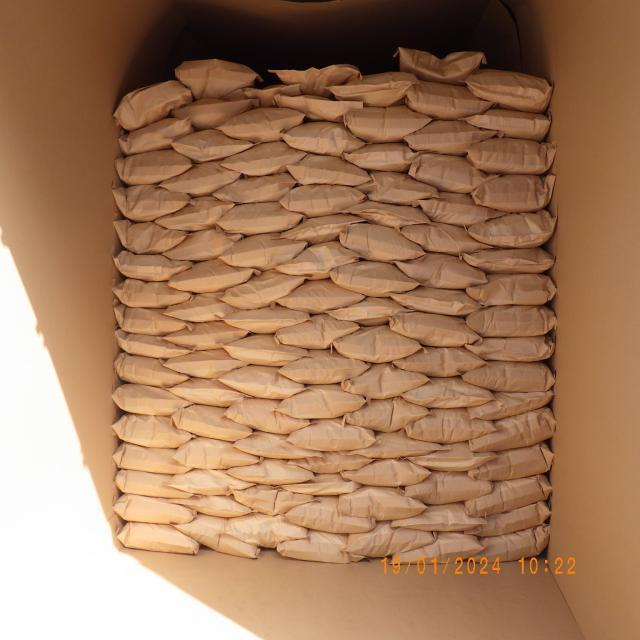gunny_bag: (176, 516, 260, 562), (408, 148, 488, 194), (468, 69, 554, 111), (406, 76, 496, 116), (114, 78, 192, 124), (467, 136, 554, 176), (336, 104, 431, 140), (339, 218, 424, 258), (174, 58, 260, 97), (332, 326, 424, 362), (208, 512, 308, 545), (472, 172, 554, 212), (285, 494, 373, 531), (466, 409, 554, 446), (348, 518, 436, 554), (275, 530, 368, 564), (466, 211, 556, 246), (409, 118, 496, 154), (172, 436, 260, 471), (223, 267, 306, 304), (166, 402, 251, 438), (405, 218, 485, 256), (461, 332, 556, 364), (400, 251, 482, 288), (390, 312, 478, 346), (469, 446, 552, 482), (115, 414, 195, 451), (273, 90, 365, 122), (224, 398, 310, 432), (280, 351, 368, 384), (273, 281, 363, 313), (346, 362, 426, 398), (289, 421, 376, 454), (281, 122, 365, 156), (478, 525, 550, 564), (406, 376, 491, 409), (115, 303, 195, 338), (112, 351, 192, 386), (340, 483, 420, 518), (277, 315, 359, 349), (469, 500, 551, 534), (218, 107, 305, 139), (221, 144, 308, 176), (344, 197, 431, 229), (109, 218, 186, 254), (361, 170, 438, 206), (334, 262, 418, 295), (348, 432, 447, 460), (393, 504, 492, 532), (169, 258, 255, 290), (464, 275, 558, 304), (117, 522, 202, 554), (280, 244, 360, 278), (407, 412, 497, 442), (466, 361, 556, 391), (114, 329, 198, 361), (112, 186, 195, 218), (164, 230, 242, 264), (226, 235, 306, 268), (226, 366, 306, 399), (278, 387, 366, 417), (288, 155, 373, 186), (238, 431, 320, 463), (156, 198, 233, 232), (391, 534, 484, 562), (396, 345, 482, 375), (114, 381, 192, 414), (117, 469, 197, 501), (217, 172, 297, 204), (346, 399, 426, 431), (422, 192, 502, 224), (280, 212, 365, 242), (467, 478, 552, 508), (114, 496, 198, 526), (280, 184, 364, 214), (116, 444, 194, 476), (225, 334, 308, 364), (115, 120, 192, 152), (226, 458, 314, 486), (467, 308, 555, 336), (166, 346, 248, 376), (220, 203, 302, 233), (398, 51, 485, 79), (112, 152, 193, 182), (336, 70, 414, 101), (174, 130, 254, 160), (410, 470, 490, 500), (464, 248, 556, 274), (166, 376, 248, 404), (327, 296, 412, 323), (165, 163, 238, 194), (183, 491, 256, 522), (393, 288, 480, 314), (110, 251, 185, 281), (172, 100, 258, 126), (232, 486, 314, 513), (169, 291, 236, 324), (112, 281, 190, 309), (268, 64, 364, 86), (465, 110, 552, 134), (170, 469, 252, 494), (226, 306, 310, 330), (471, 390, 555, 414), (412, 444, 492, 469), (167, 322, 246, 347), (345, 460, 426, 484), (348, 142, 418, 168), (298, 452, 372, 472), (229, 82, 300, 102), (288, 475, 361, 494)
